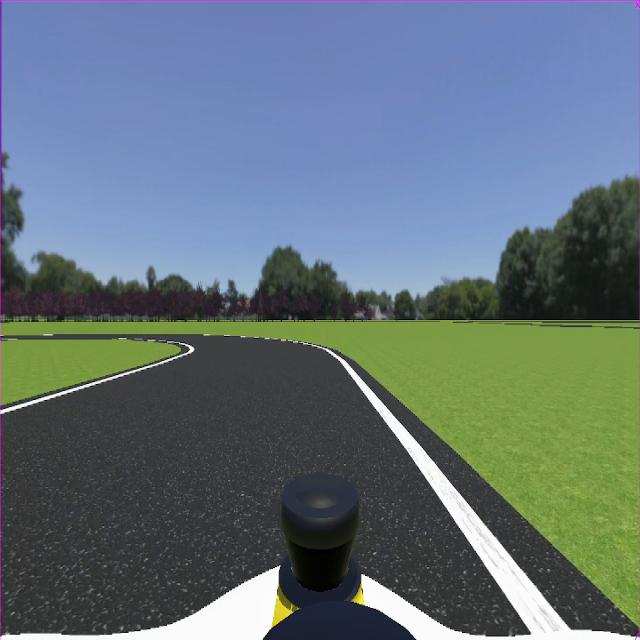road: (2, 337, 524, 634)
solid_line: (327, 350, 569, 634), (0, 345, 194, 414)
